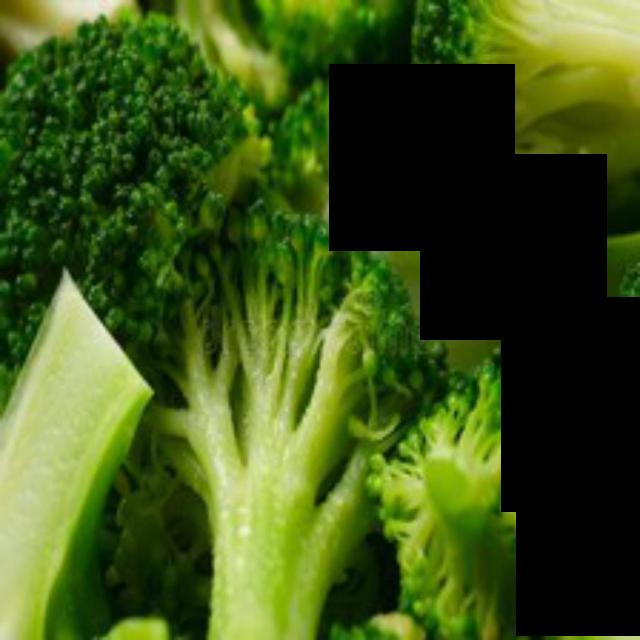broccoli: (154, 203, 448, 637)
